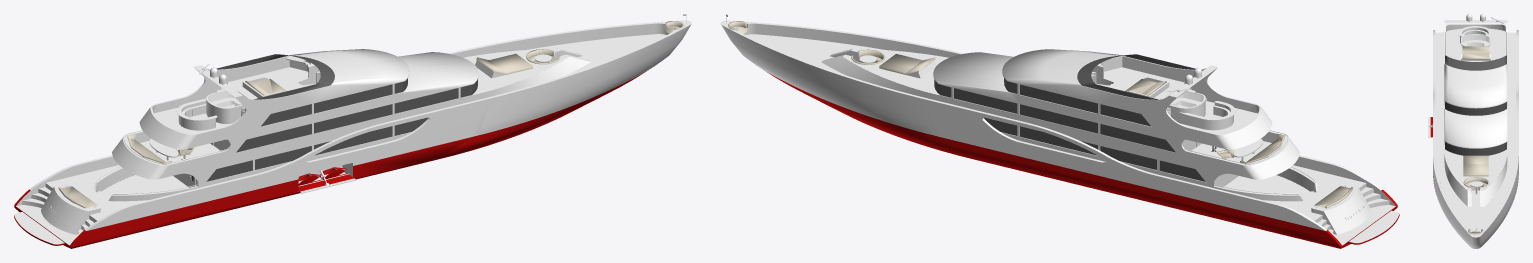
The model's file is gman.glb.
3 views of the same model, side by side, from view 1: azimuth 30°, elevation 25°; view 2: azimuth 150°, elevation 25°; view 3: azimuth 270°, elevation 25° (orthographic). The views are drawn at different scales.
Visible parts, largest first — view 1: Material3.002, Material2, Material3.001, Material3.003, Material3.004, Material3.005, Material3.007, Material4.002, Material2.001, Material3.008, Material2.002; view 2: Material3.002, Material2, Material3.001, Material3.003, Material3.004, Material3.005, Material3.007, Material2.001, Material4.002, Material3.008, Material2.002; view 3: Material3.002, Material3.004, Material2, Material3.003, Material3.007, Material2.002, Material3.006, Material2.001, Material4.002, Material3.008, Material3.001.
Part boxes in pixels (bbox=[...]): Material3.002: bbox=[16, 15, 685, 234]; Material2: bbox=[22, 14, 691, 232]; Material3.001: bbox=[14, 71, 646, 248]; Material3.003: bbox=[192, 54, 477, 181]; Material3.004: bbox=[46, 34, 665, 220]; Material3.005: bbox=[14, 84, 301, 245]; Material3.007: bbox=[58, 21, 684, 208]; Material4.002: bbox=[67, 62, 542, 206]; Material2.001: bbox=[178, 101, 215, 130]; Material3.008: bbox=[149, 54, 551, 157]; Material2.002: bbox=[208, 91, 246, 107]; Material3.002: bbox=[757, 24, 1395, 234]; Material2: bbox=[720, 14, 1389, 233]; Material3.001: bbox=[767, 72, 1399, 248]; Material3.003: bbox=[934, 54, 1205, 181]; Material3.004: bbox=[746, 34, 1365, 220]; Material3.005: bbox=[1110, 84, 1399, 245]; Material3.007: bbox=[728, 21, 1353, 208]; Material2.001: bbox=[1178, 102, 1233, 130]; Material4.002: bbox=[1178, 101, 1345, 206]; Material3.008: bbox=[859, 55, 1262, 157]; Material2.002: bbox=[1165, 91, 1203, 107]; Material3.002: bbox=[1428, 17, 1518, 206]; Material3.004: bbox=[1435, 28, 1516, 231]; Material2: bbox=[1429, 14, 1518, 248]; Material3.003: bbox=[1445, 32, 1506, 155]; Material3.007: bbox=[1462, 46, 1489, 234]; Material2.002: bbox=[1462, 34, 1489, 46]; Material3.006: bbox=[1462, 35, 1489, 45]; Material2.001: bbox=[1460, 27, 1488, 43]; Material4.002: bbox=[1431, 26, 1492, 194]; Material3.008: bbox=[1461, 34, 1490, 187]; Material3.001: bbox=[1430, 117, 1518, 191].
Size of the model in its own units: 40 by 7.23 by 6.29.
